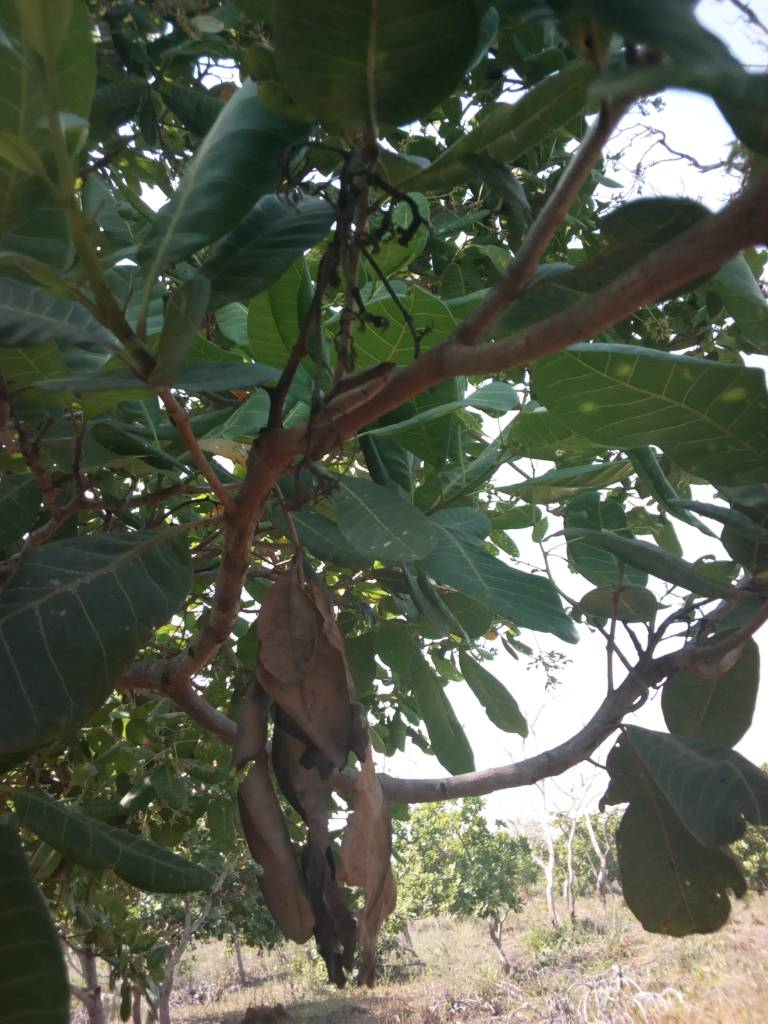Dessèchement des bourgeons: (233, 713, 407, 975), (261, 552, 374, 763), (335, 164, 427, 364)
